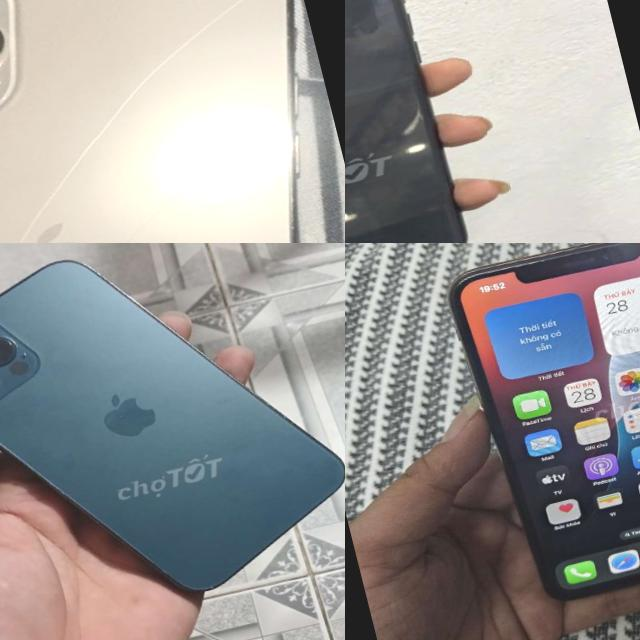physical_damage: (33, 102, 165, 198), (105, 33, 210, 123), (169, 0, 310, 57), (0, 177, 107, 243)
